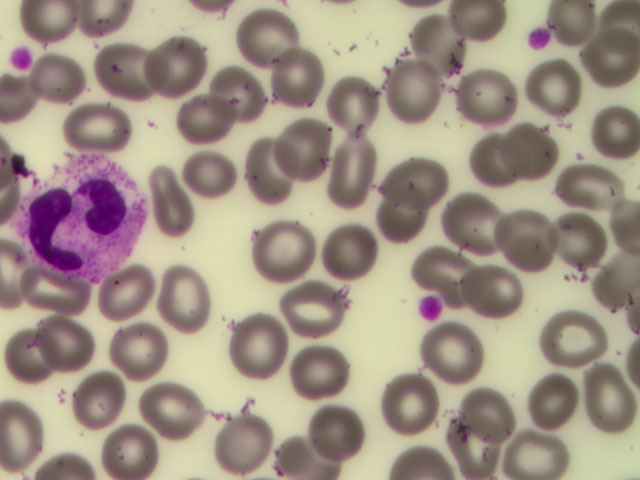Platelets: (416, 292, 458, 321), (527, 19, 554, 53), (8, 44, 39, 73)
RBC: (578, 102, 640, 160), (578, 29, 640, 87), (578, 248, 640, 306), (578, 372, 640, 430), (142, 381, 203, 439), (211, 413, 272, 471), (227, 317, 288, 375), (282, 277, 343, 335), (255, 220, 316, 278), (322, 224, 383, 282), (324, 140, 385, 198), (322, 75, 383, 133), (378, 61, 439, 119), (406, 16, 467, 74), (465, 70, 526, 128), (501, 120, 562, 178), (472, 136, 533, 194), (393, 145, 454, 203), (374, 184, 435, 242), (434, 193, 495, 251), (493, 214, 554, 272), (543, 211, 604, 269), (559, 161, 620, 219), (523, 58, 584, 116), (541, 308, 602, 366), (520, 376, 581, 434), (503, 418, 564, 476), (456, 379, 517, 437), (438, 421, 499, 479), (380, 376, 441, 434), (309, 401, 370, 459), (292, 337, 353, 395), (274, 422, 335, 480), (426, 325, 480, 379), (34, 54, 86, 105), (96, 43, 148, 94), (143, 35, 195, 86), (76, 101, 128, 152), (165, 92, 217, 143), (205, 67, 257, 118), (244, 6, 296, 57), (278, 51, 330, 102), (277, 121, 329, 172), (245, 143, 297, 194), (187, 152, 239, 203), (151, 170, 203, 221), (155, 272, 207, 323), (104, 270, 156, 321), (41, 320, 93, 371), (8, 326, 60, 377), (20, 269, 72, 320), (116, 330, 168, 381), (80, 372, 132, 423), (109, 426, 161, 477), (20, 1, 81, 44), (1, 405, 48, 460)
WBC: (12, 154, 141, 282)
